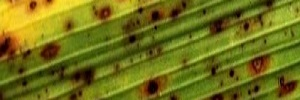RiceBrownSpot: (1, 2, 300, 100)
